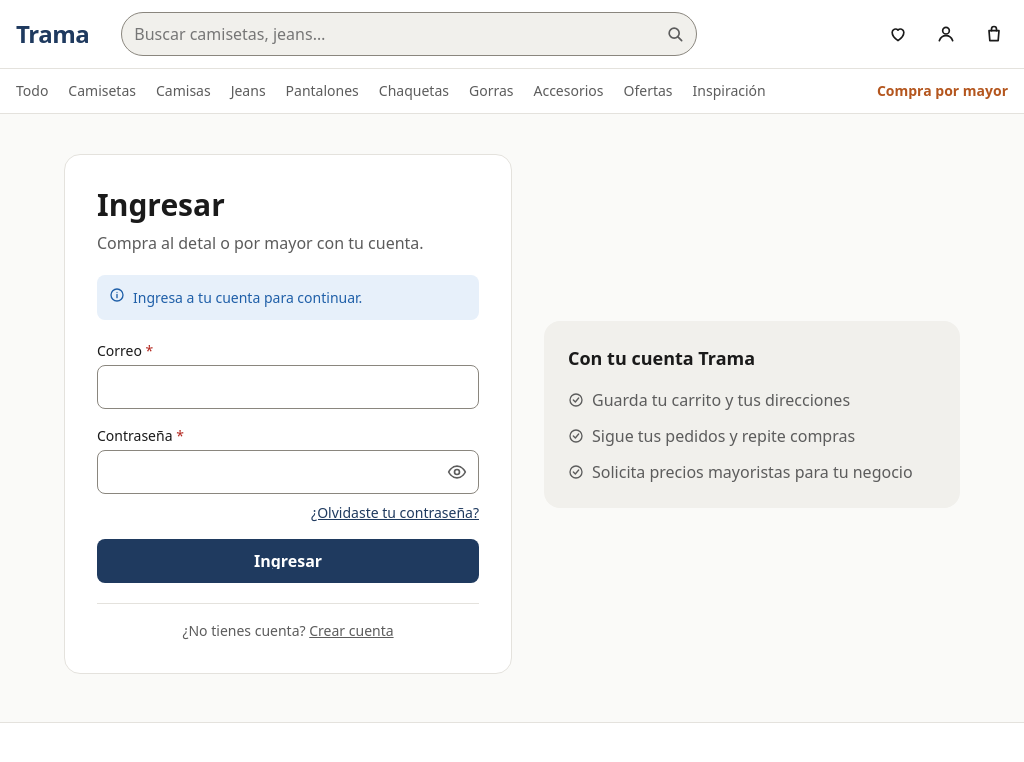
it: App › redirige al login y vuelve a la ruta protegida tras ingresar
The width and height of the screenshot is (1024, 762).
Check: the heading "Ingresar" is shown, box [97,184,225,225]
Type "comprador@trama.test" into the field labelled "Correo *" at coordinates (288, 387), box [97,365,479,409]
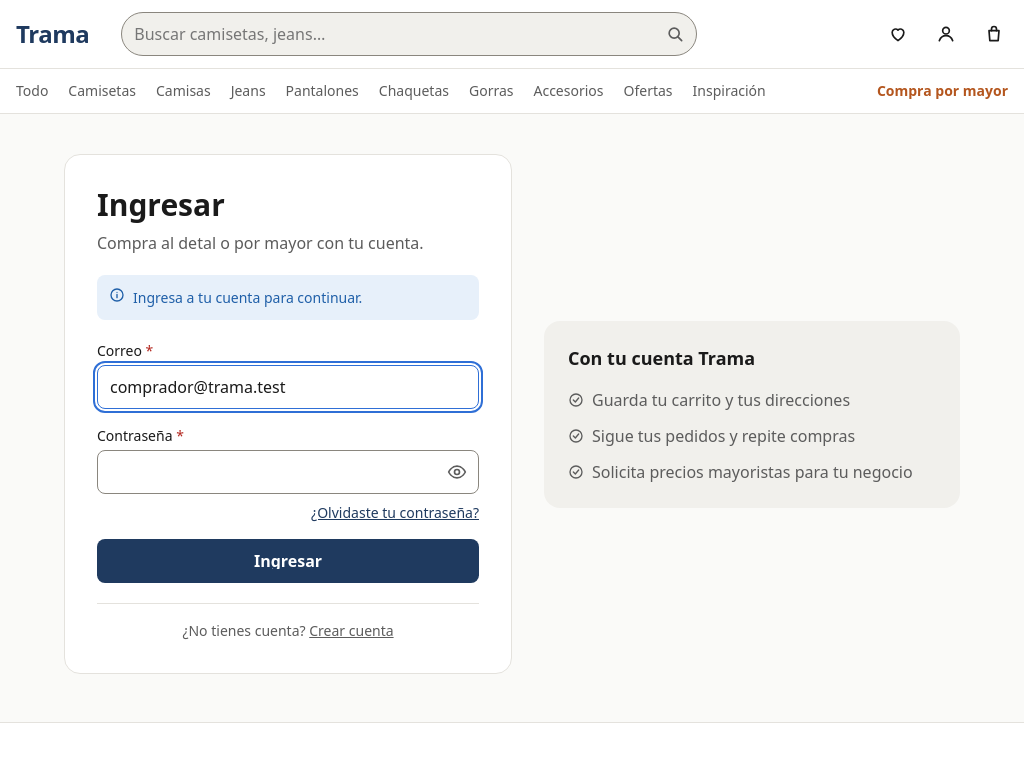
Type "Trama1234" into the password field labelled "Contraseña *" at coordinates (288, 472), box [97,450,479,494]
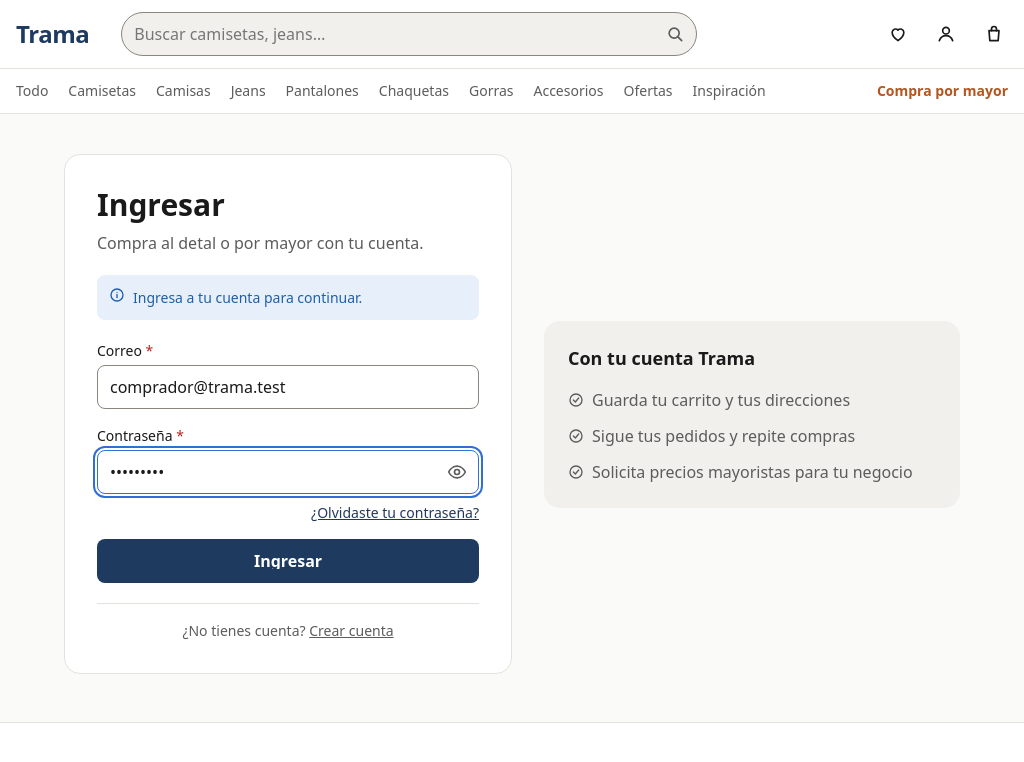
Click the button "Ingresar" at coordinates (288, 561), box [97,539,479,583]
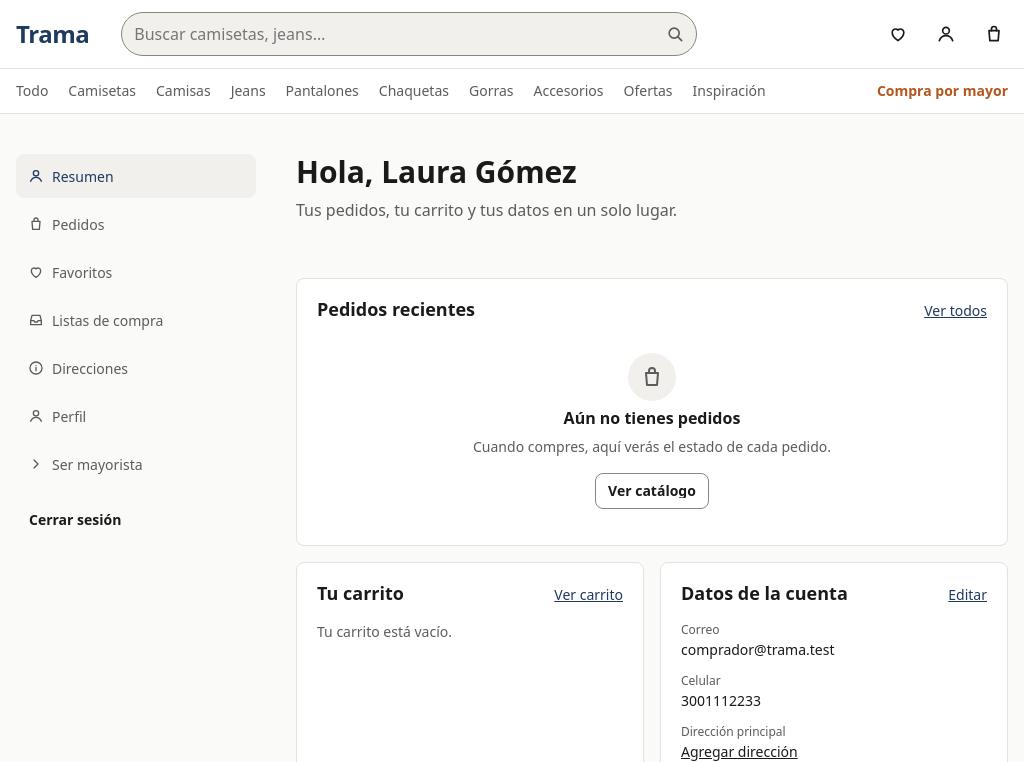
Check: the heading "Hola, Laura Gómez" is shown, box [296,151,577,192]
